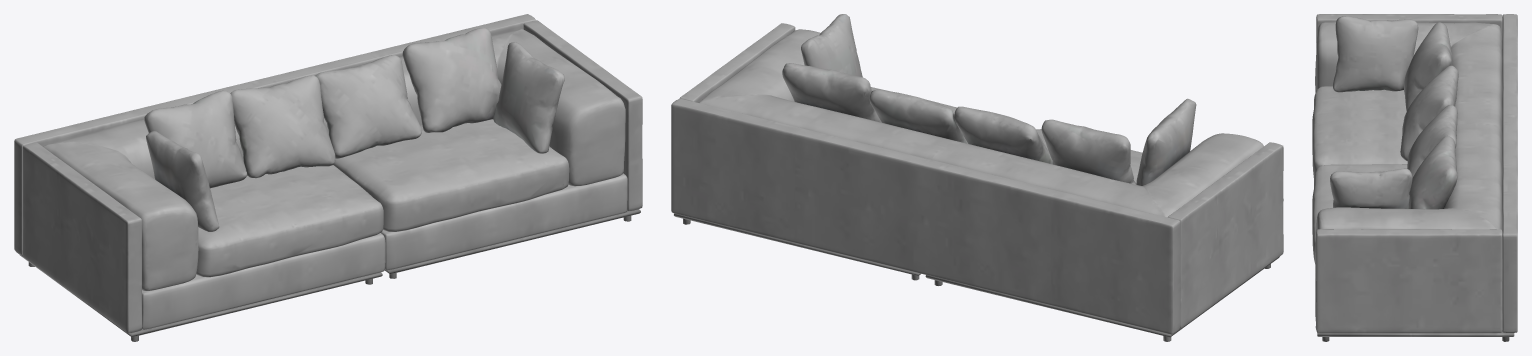
The model's file is sofa.glb.
3 views of the same model, side by side, from view 1: azimuth 30°, elevation 25°; view 2: azimuth 150°, elevation 25°; view 3: azimuth 270°, elevation 25° (orthographic). The views are drawn at different scales.
Visible parts, largest first — view 1: g; view 2: g; view 3: g.
Part boxes in pixels (box(x1,y1,x2,y2)): g: box(14, 14, 642, 341); g: box(671, 14, 1283, 341); g: box(1312, 14, 1517, 341).
Bounding box in the file's own units: 2.06 × 0.6199 × 0.8074.
Materials: 6 (6 with a texture image).
